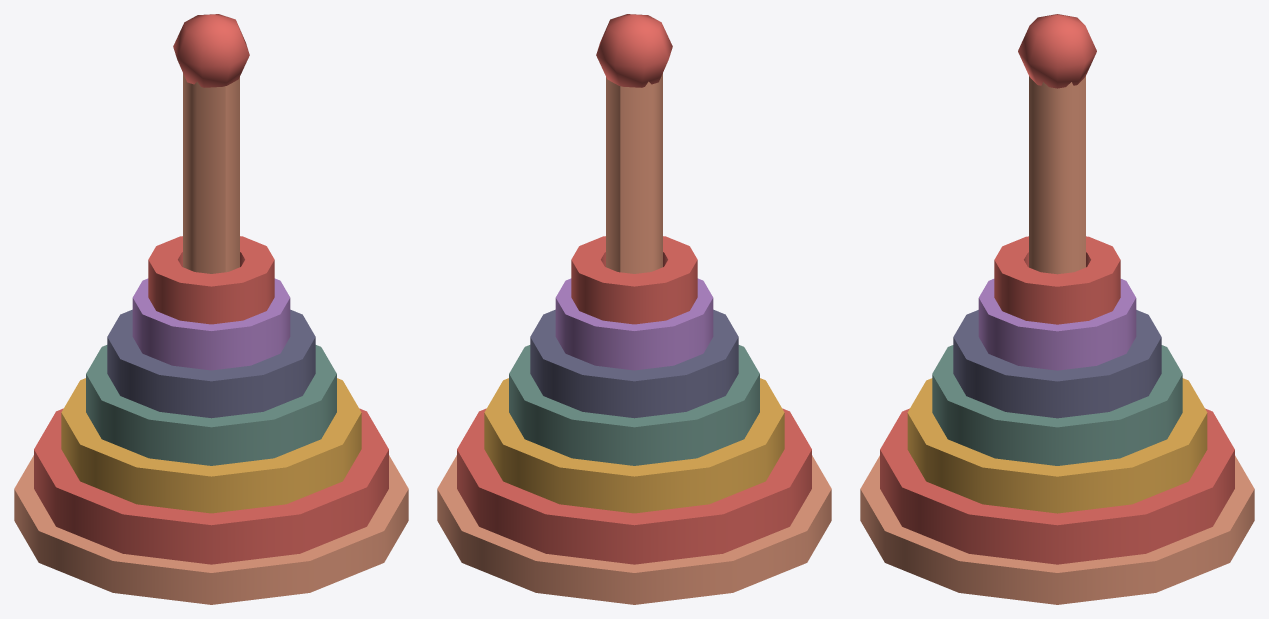
Rendered from ToyStacker_01.fbx.
3 renders of one model, left to right at view 1: azimuth 30°, elevation 25°; view 2: azimuth 150°, elevation 25°; view 3: azimuth 270°, elevation 25°, orthographic.
Visible parts, largest first — view 1: ToyStacker_01; view 2: ToyStacker_01; view 3: ToyStacker_01.
Part boxes in pixels (x1,y1,x2,y2): ToyStacker_01: (14,14,408,604); ToyStacker_01: (437,14,831,604); ToyStacker_01: (860,14,1254,604).
Bounding box in the file's own units: 0.3171 × 0.4436 × 0.3136.
